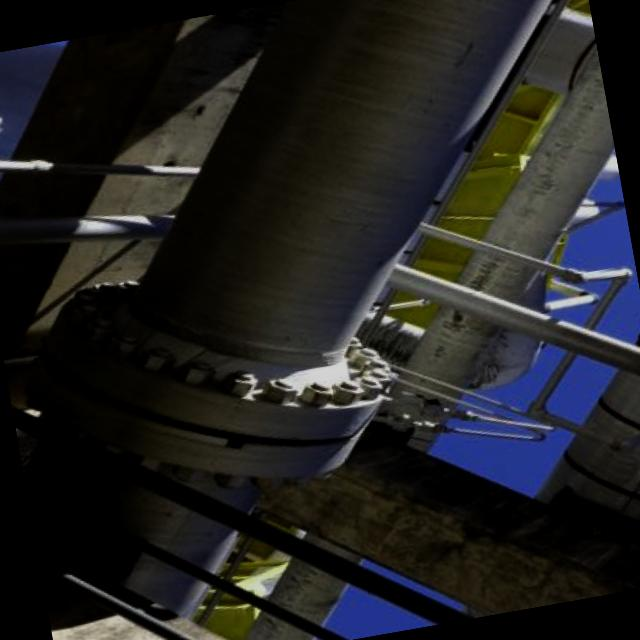gas: (30, 0, 551, 609), (378, 50, 613, 446), (245, 535, 359, 640)
